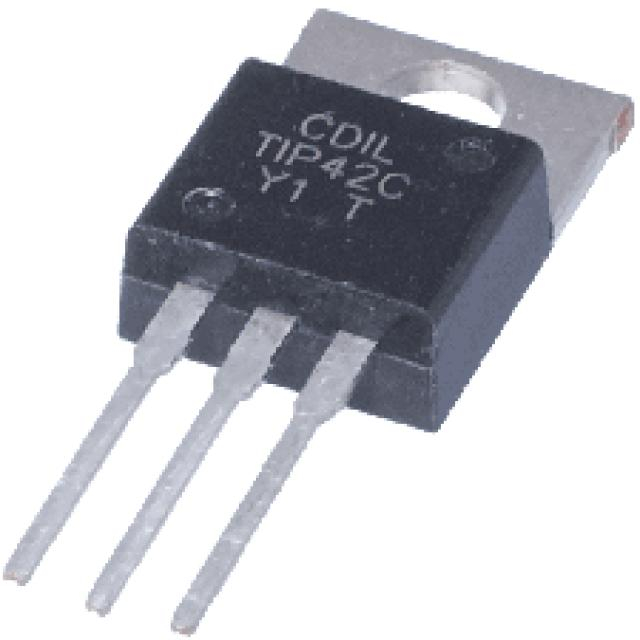Transistor: (17, 19, 620, 636)
